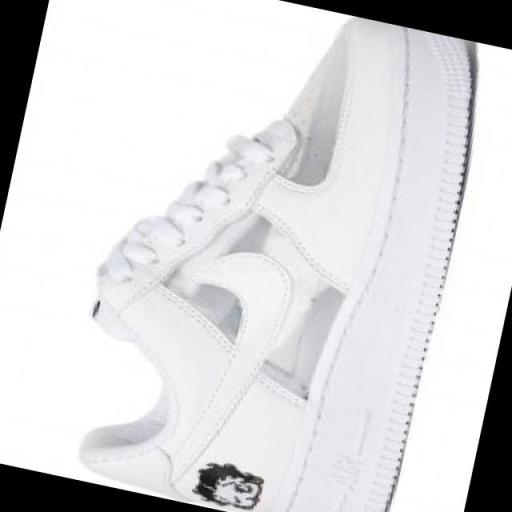Nike: (146, 225, 303, 504)
